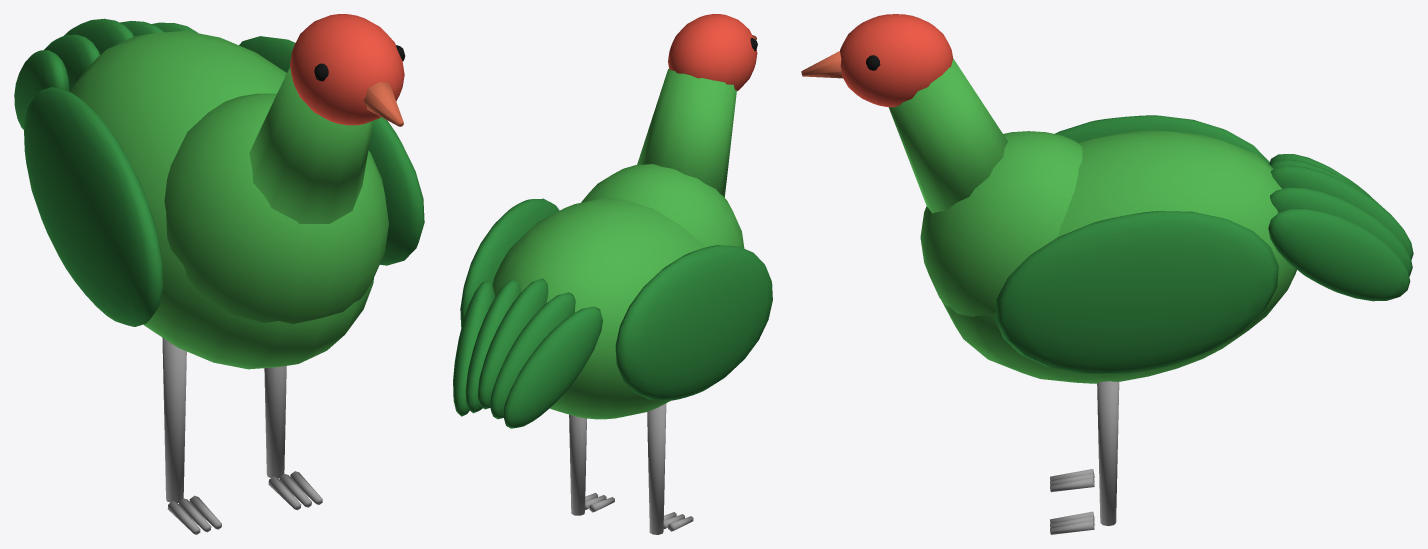
File: lovebird.glb
The picture shows the model from 3 angles, left to right: view 1: azimuth 30°, elevation 25°; view 2: azimuth 150°, elevation 25°; view 3: azimuth 270°, elevation 25°; orthographic projection. The views are drawn at different scales.
Parts seen in each view (by area): view 1: lovebird; view 2: lovebird; view 3: lovebird.
Part boxes in pixels (x1,y1,x2,y2): lovebird: [14, 14, 424, 534]; lovebird: [453, 14, 772, 534]; lovebird: [801, 14, 1413, 534].
Bounding box in the file's own units: 0.2424 × 0.45 × 0.5088.
